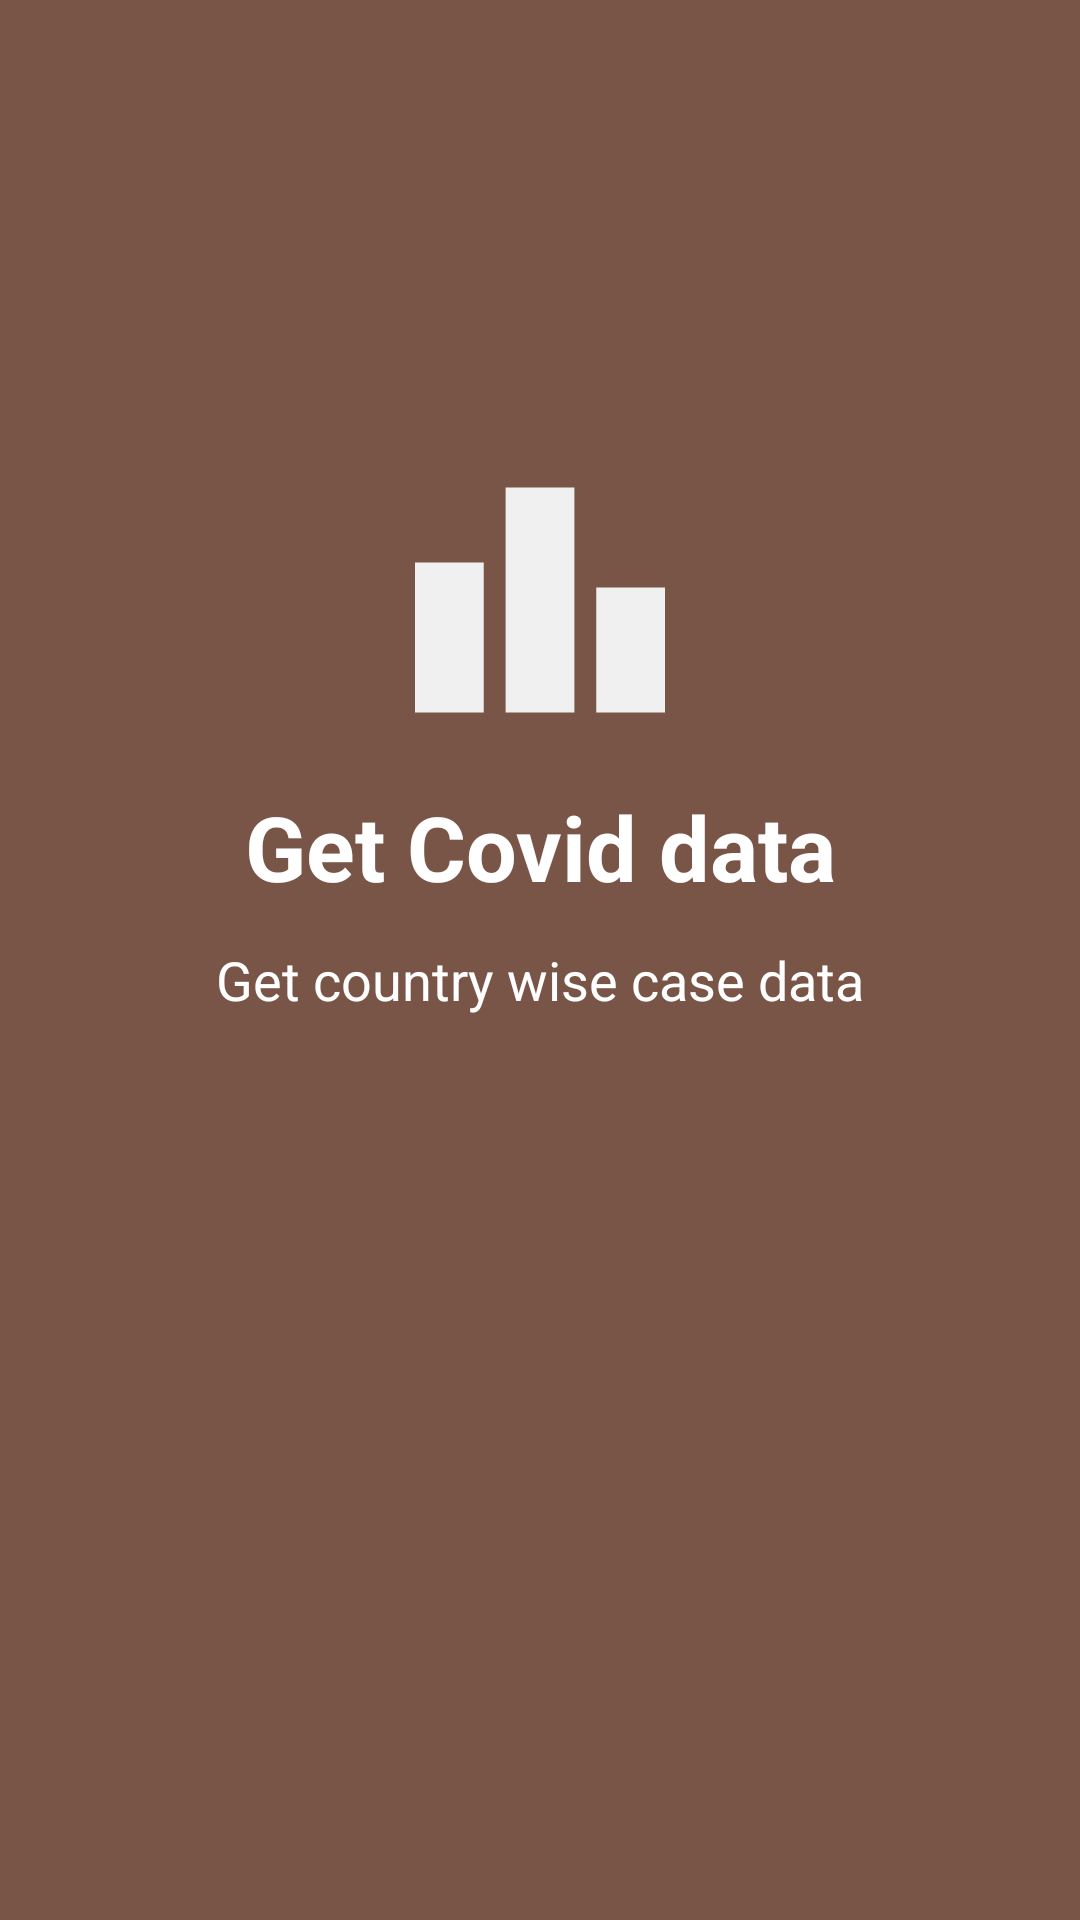

Point at icon controls on the screen. Image size 1080px x 1920px, points as (x=x, y=y).
leaderboard: (x=540, y=600)
